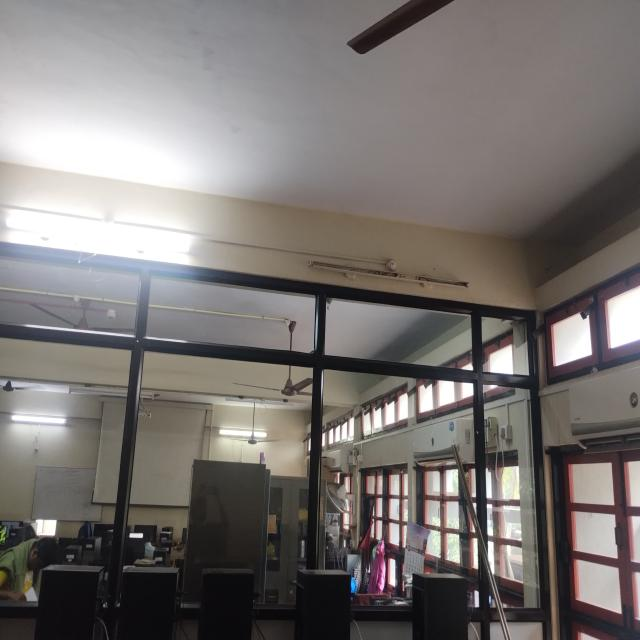tubelight_on: (1, 208, 196, 261), (7, 413, 71, 431), (216, 425, 268, 440), (125, 531, 146, 543)
